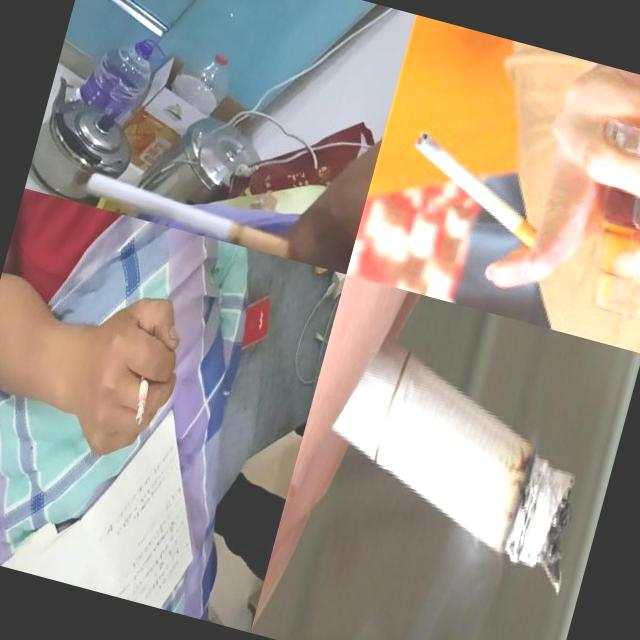smoke: (318, 336, 612, 604), (393, 129, 561, 254), (78, 166, 296, 258), (125, 362, 157, 427)
